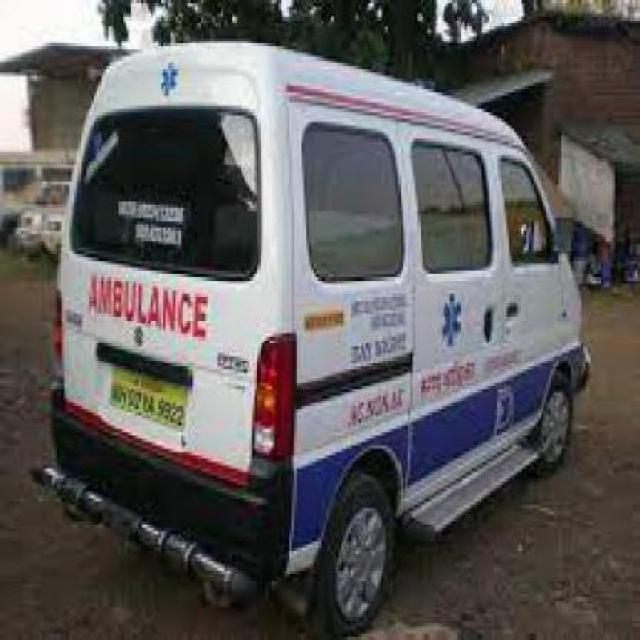Ambulance: (31, 35, 598, 636)
